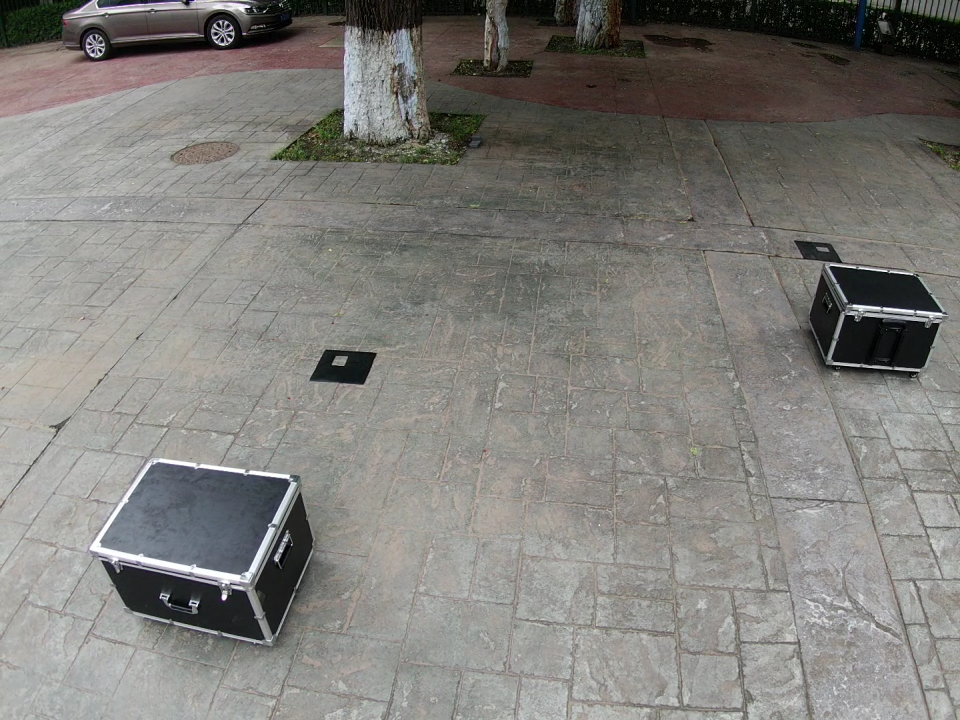box: (89, 458, 316, 645), (808, 263, 948, 372)
qrcode: (310, 350, 377, 385), (795, 241, 843, 263)
